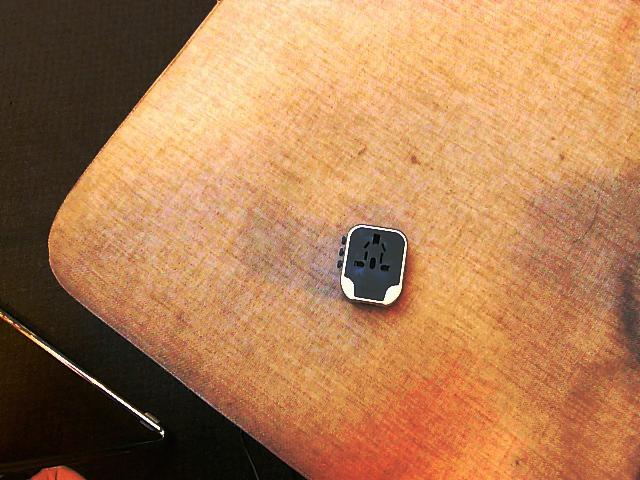adapter: (337, 223, 407, 307)
